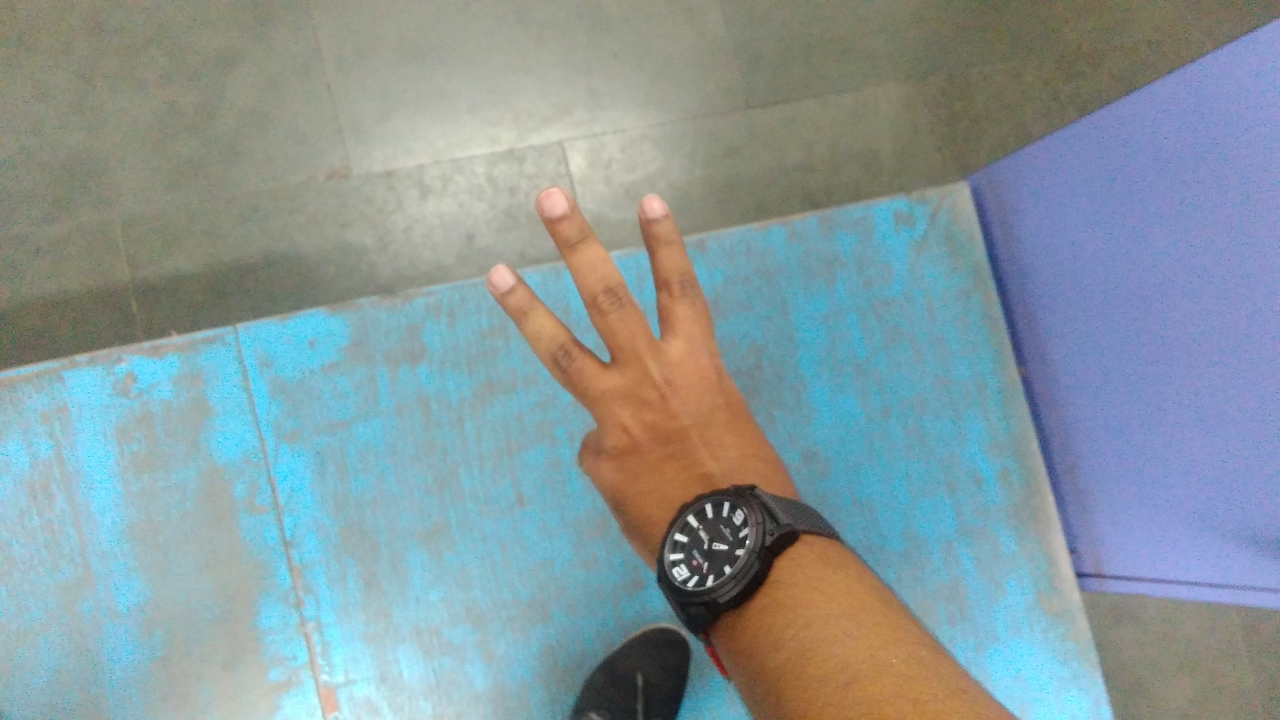fingertip: (476, 250, 534, 304), (524, 176, 584, 226), (628, 180, 684, 228)
